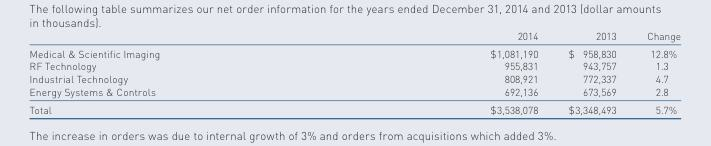table: (28, 28, 679, 115)
table column: (28, 28, 324, 115), (324, 28, 552, 115), (552, 28, 630, 115), (630, 28, 679, 115)
table column header: (28, 28, 679, 44)
table row: (28, 28, 679, 44), (28, 99, 679, 115), (28, 44, 679, 59), (28, 84, 679, 99), (28, 71, 679, 84), (28, 59, 679, 71)
